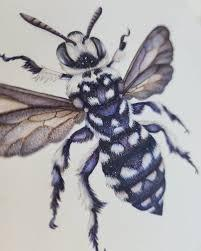Thyreus: (12, 2, 191, 233)
